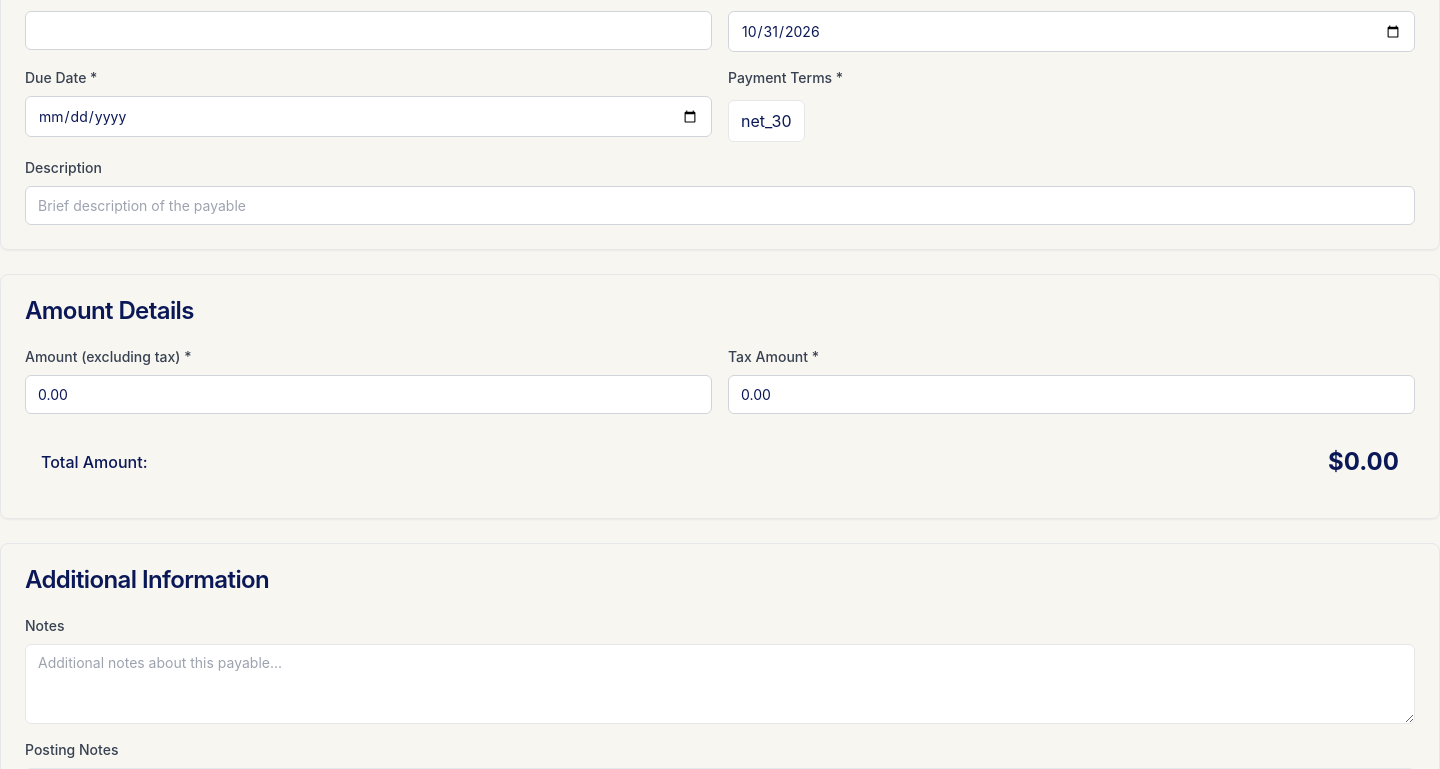
Test: PayableForm Component › Form Validation › should calculate total amount correctly
(page scrolled)
# Enter amounts
Replace the text in the number field labelled "Amount (excluding tax) *" with "1000.00" at (368, 394), box 25,375 -> 712,414
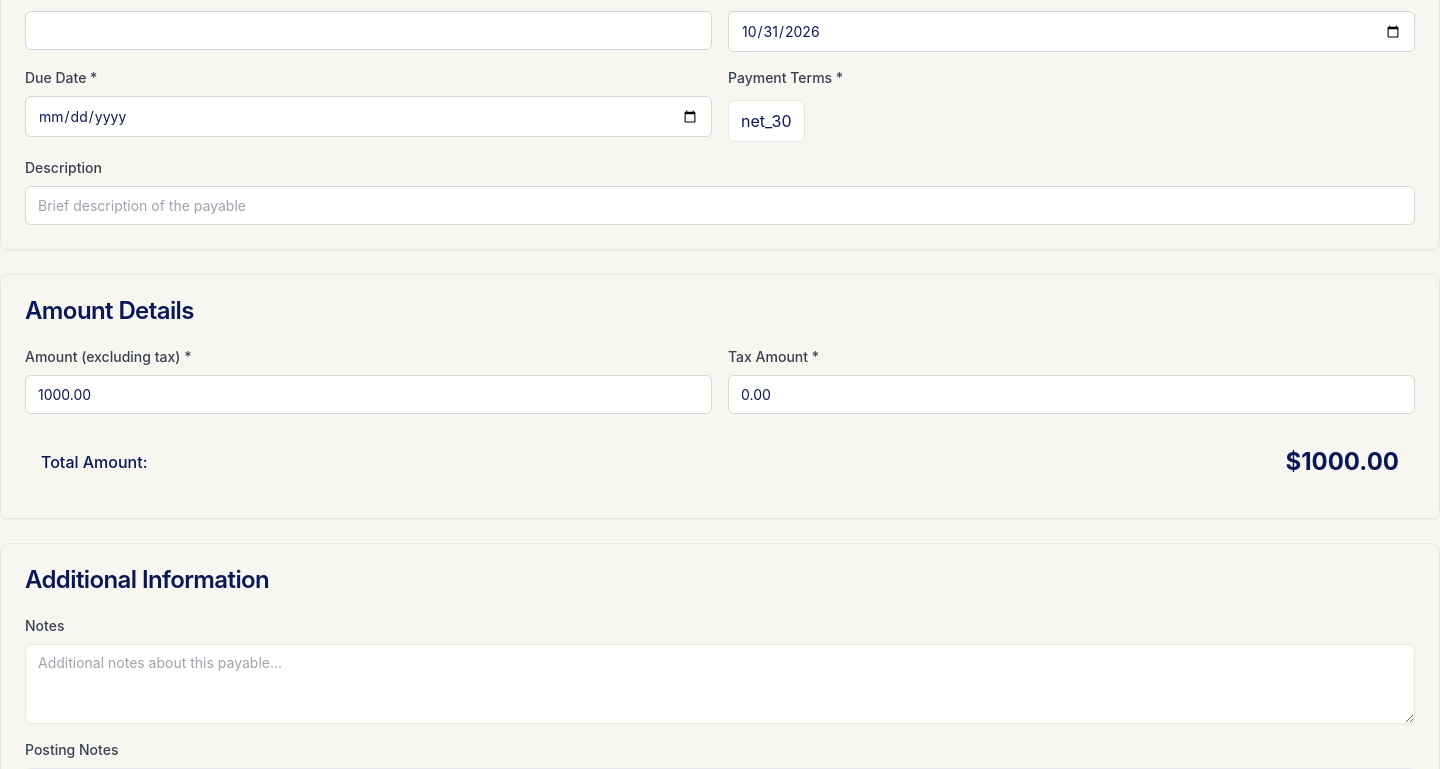
Replace the text in the number field labelled "Tax Amount *" with "150.00" at (1072, 394), box 728,375 -> 1415,414
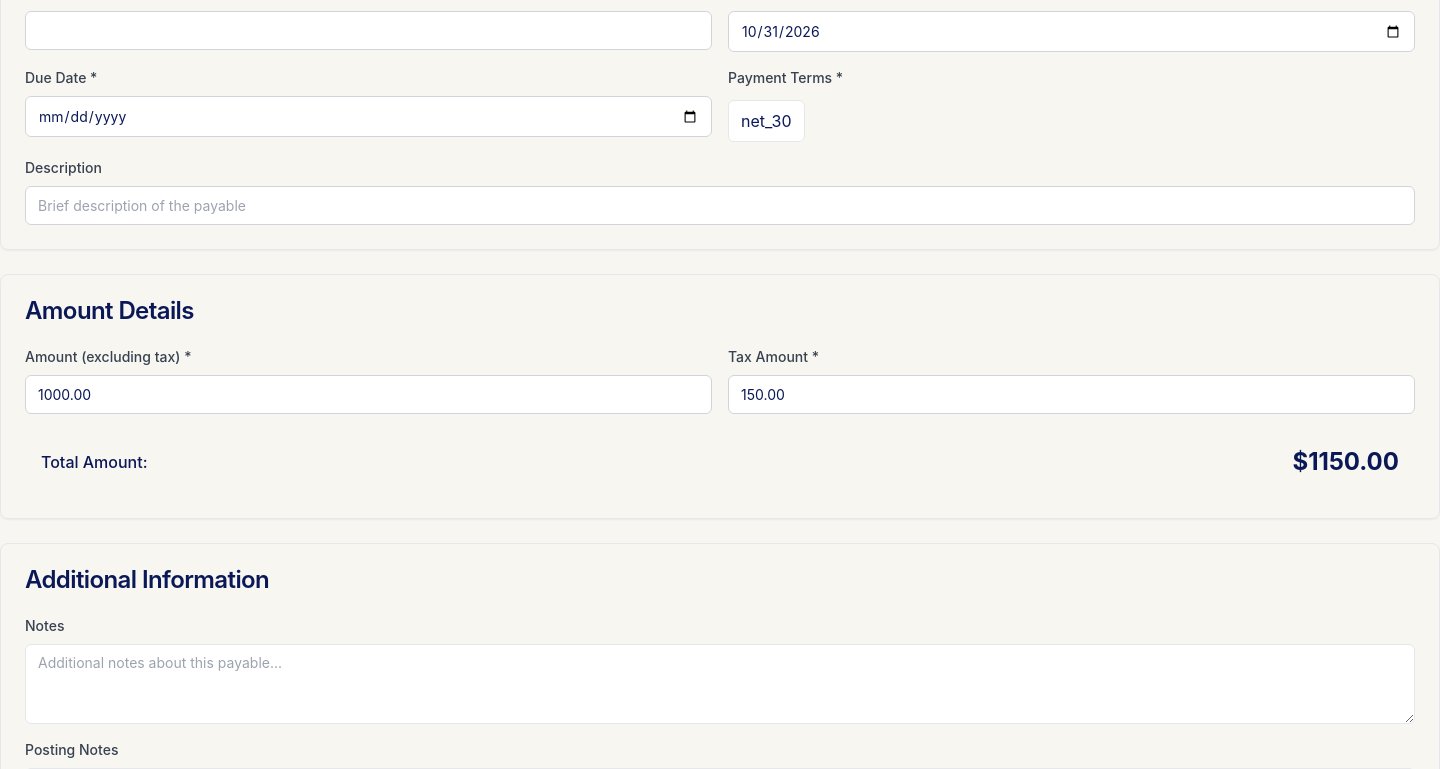
Expected: the text "$1150.00" is shown, 1292,446 -> 1399,478
